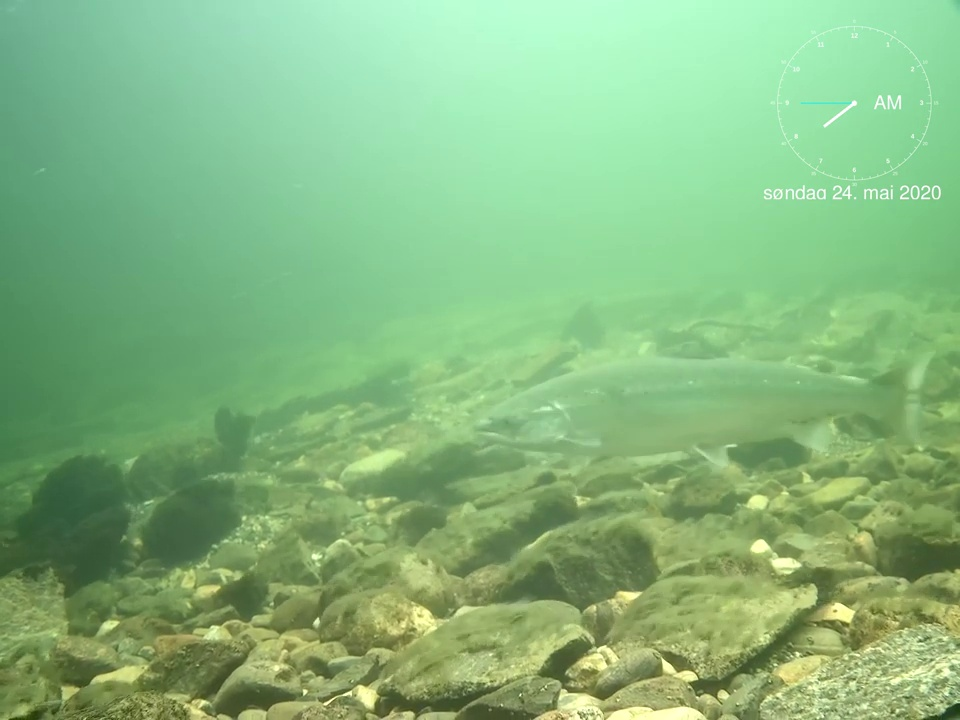salmon: (472, 337, 929, 469)
